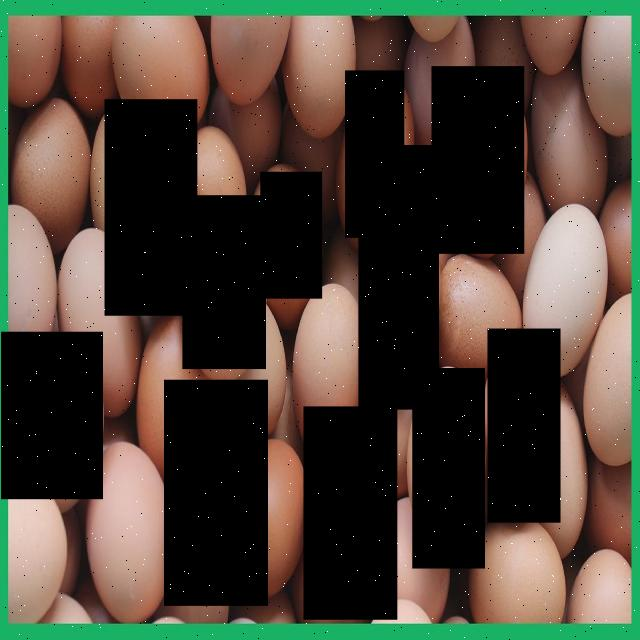Egg: (164, 380, 268, 606), (359, 146, 439, 410), (304, 407, 398, 621), (105, 100, 197, 317), (432, 67, 525, 255), (2, 332, 104, 499), (413, 368, 485, 569), (183, 196, 266, 370), (488, 330, 561, 524), (346, 70, 404, 238), (260, 172, 322, 300)
